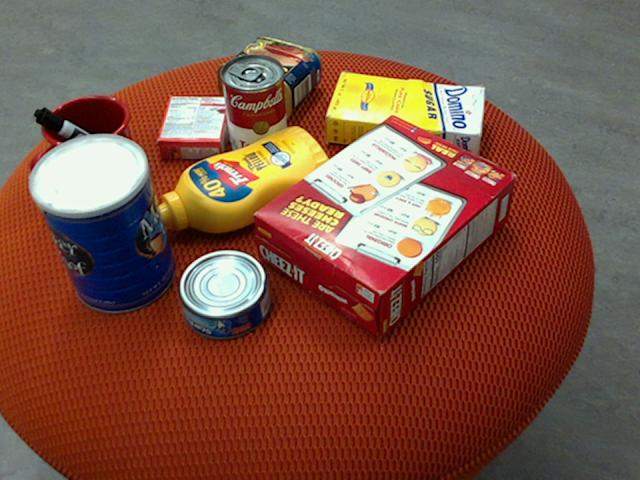cracker_box: (254, 114, 518, 336)
gelatin_box: (157, 94, 233, 158)
large_marker: (34, 107, 137, 174)
master_chef_can: (27, 134, 176, 313)
mug: (34, 94, 140, 200)
mustard_bottle: (148, 126, 335, 233)
potted_meat_can: (218, 37, 322, 120)
sugar_box: (326, 72, 487, 158)
tomato_soup_can: (221, 52, 288, 162)
tuna_fish_can: (179, 250, 272, 340)
